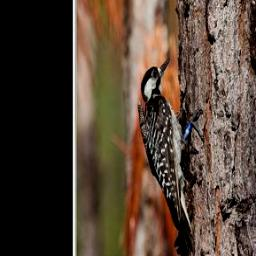Woodpecker: (132, 49, 212, 256)
